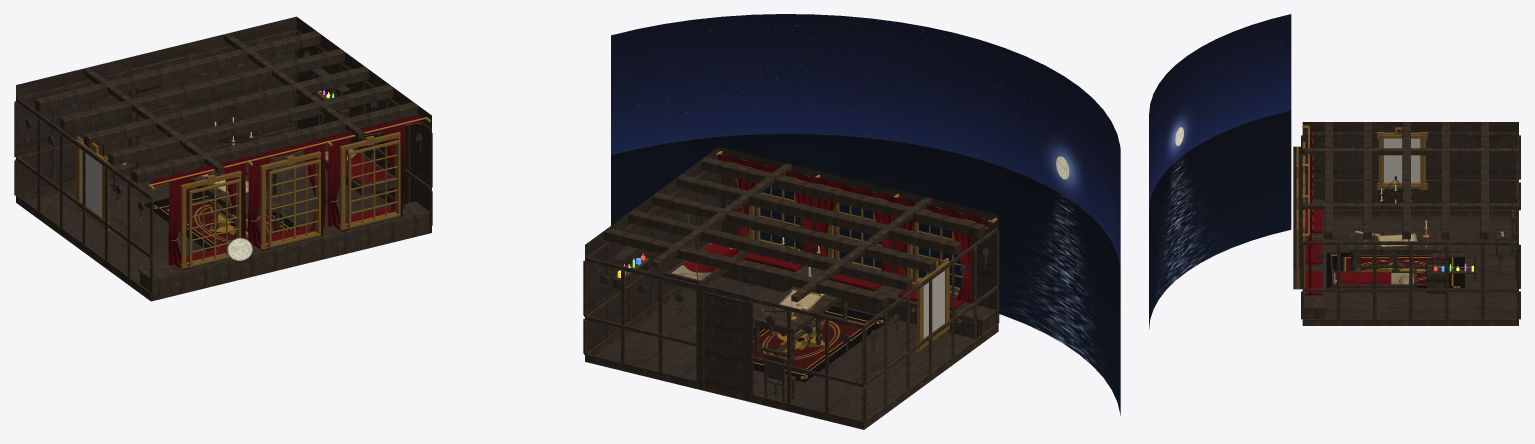
File: kajuta.glb
3 renders of one model, left to right at view 1: azimuth 30°, elevation 25°; view 2: azimuth 150°, elevation 25°; view 3: azimuth 270°, elevation 25°, orthographic. The views are drawn at different scales.
Parts seen in each view (by area): view 1: kajuta_shell, kajuta_tramy, kajuta_okna, kajuta_lavice, kajuta_zavesy, kajuta_obklad_L, kajuta_obklad_D, kajuta_koberec, kajuta_obklad_R, kajuta_dvere, kajuta_kojka, kajuta_stul (+3 smaller); view 2: kajuta_nebe, kajuta_shell, kajuta_tramy, kajuta_obklad_D, kajuta_obklad_L, kajuta_zavesy, kajuta_dvere, kajuta_lavice, kajuta_koberec, kajuta_obklad_R, kajuta_stul, kajuta_okna (+4 smaller); view 3: kajuta_nebe, kajuta_shell, kajuta_tramy, kajuta_obklad_R, kajuta_obklad_L, kajuta_koberec, kajuta_lavice, kajuta_stul, kajuta_kojka, PORTRAIT_canvas, kajuta_portret_ram, kajuta_okna (+3 smaller).
Part boxes in pixels (x1,y1,x2,y2): kajuta_shell: (16, 16, 431, 301); kajuta_tramy: (35, 31, 417, 183); kajuta_okna: (180, 132, 400, 269); kajuta_lavice: (138, 201, 430, 300); kajuta_zavesy: (148, 114, 430, 265); kajuta_obklad_L: (15, 97, 153, 301); kajuta_obklad_D: (14, 30, 296, 200); kajuta_koberec: (144, 191, 299, 250); kajuta_obklad_R: (296, 29, 432, 233); kajuta_dvere: (136, 78, 179, 169); kajuta_kojka: (315, 88, 394, 194); kajuta_stul: (183, 161, 284, 239); kajuta_nebe: (611, 14, 1120, 415); kajuta_shell: (585, 146, 998, 429); kajuta_tramy: (604, 157, 984, 308); kajuta_obklad_D: (583, 257, 866, 429); kajuta_obklad_L: (862, 227, 999, 429); kajuta_zavesy: (716, 151, 997, 303); kajuta_dvere: (704, 291, 745, 400); kajuta_lavice: (720, 253, 996, 338); kajuta_koberec: (753, 306, 890, 382); kajuta_obklad_R: (584, 170, 720, 355); kajuta_stul: (753, 276, 852, 364); kajuta_okna: (749, 183, 963, 297); kajuta_nebe: (1149, 14, 1291, 328); kajuta_shell: (1293, 122, 1518, 325); kajuta_tramy: (1302, 122, 1518, 239); kajuta_obklad_R: (1301, 241, 1520, 325); kajuta_obklad_L: (1301, 132, 1520, 216); kajuta_koberec: (1326, 252, 1464, 288); kajuta_lavice: (1304, 199, 1325, 318); kajuta_stul: (1348, 232, 1443, 271); kajuta_kojka: (1329, 239, 1416, 292); PORTRAIT_canvas: (1384, 138, 1420, 182); kajuta_portret_ram: (1377, 127, 1427, 189); kajuta_okna: (1296, 142, 1305, 293).
Bounding box in the file's own units: 10.95 × 5.5 × 8.59.
28 materials, 14 textured.
